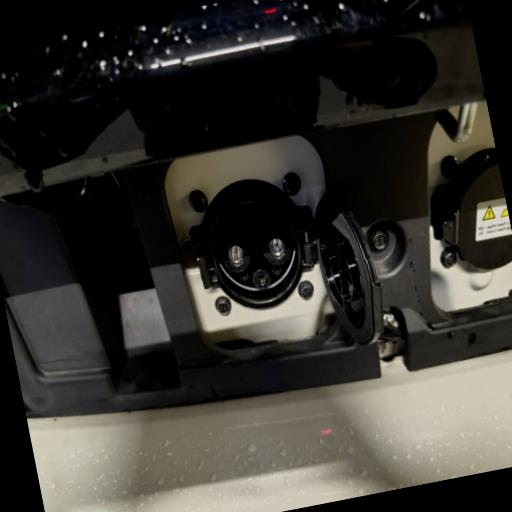DC_charging_port: (198, 181, 316, 318)
DC_hole: (257, 224, 296, 270), (216, 234, 256, 276)
PE: (250, 266, 272, 294)
